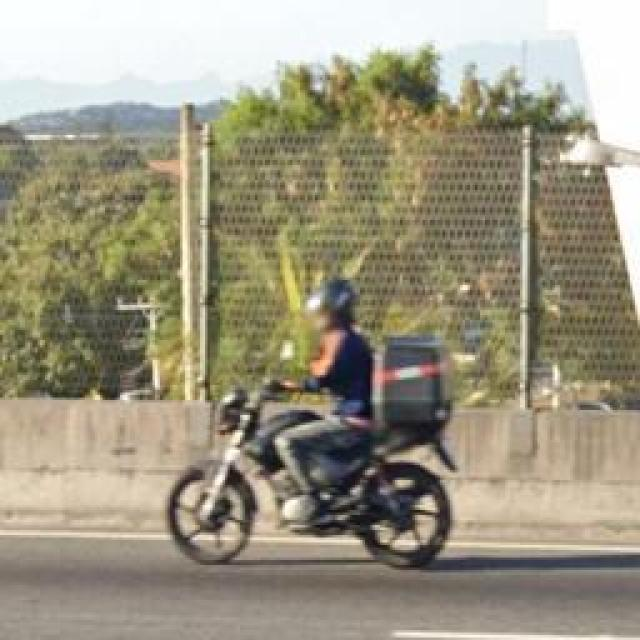motorbike: (155, 263, 472, 580)
